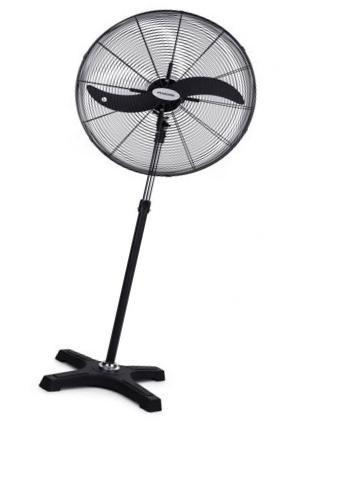fan: (28, 0, 281, 415)
